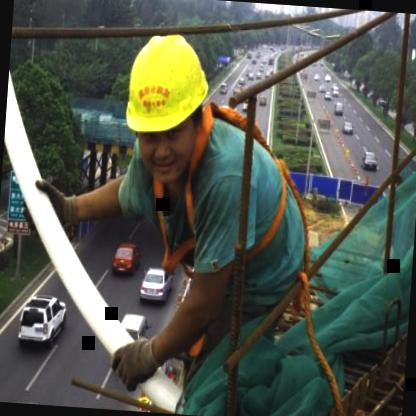helmet: (107, 15, 219, 192)
